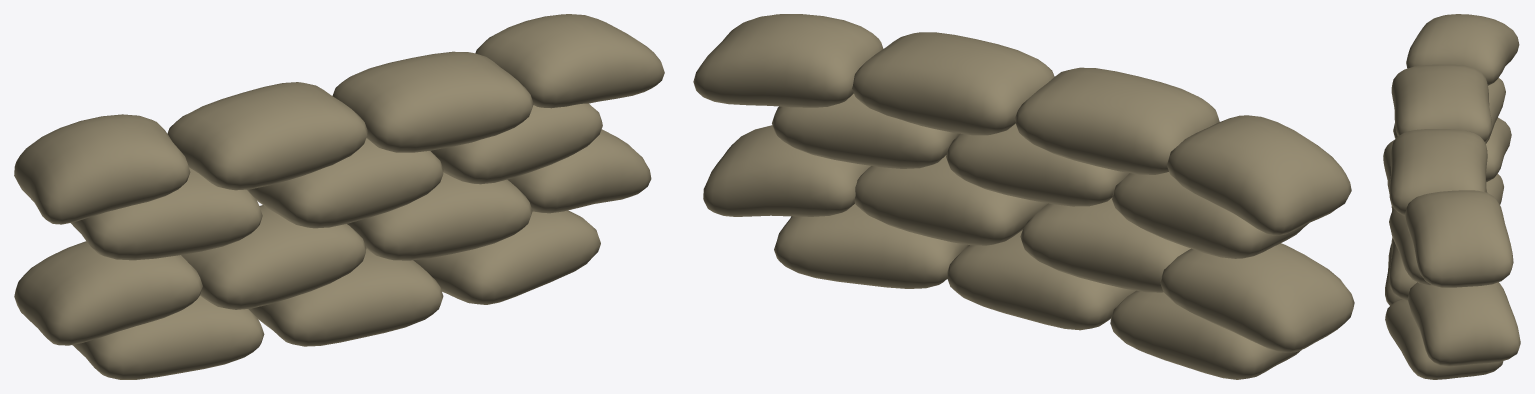
The model's file is sandbags.glb.
3 views of the same model, side by side, from view 1: azimuth 30°, elevation 25°; view 2: azimuth 150°, elevation 25°; view 3: azimuth 270°, elevation 25° (orthographic). The views are drawn at different scales.
Visible parts, largest first — view 1: SackTrench; view 2: SackTrench; view 3: SackTrench.
Part boxes in pixels (left/top/right/bottom): SackTrench: left=14, top=14, right=664, bottom=379; SackTrench: left=693, top=14, right=1354, bottom=379; SackTrench: left=1383, top=14, right=1520, bottom=379.
Bounding box in the file's own units: 3.16 × 1.19 × 0.775.
